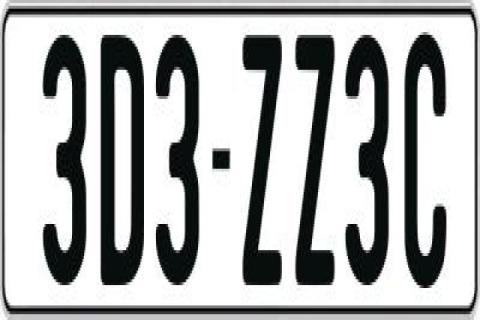0: (42, 32, 88, 294), (156, 32, 202, 285), (344, 26, 388, 276)
C: (402, 32, 446, 285)
D: (98, 26, 142, 282)
Z: (240, 29, 282, 294), (296, 29, 338, 291)
